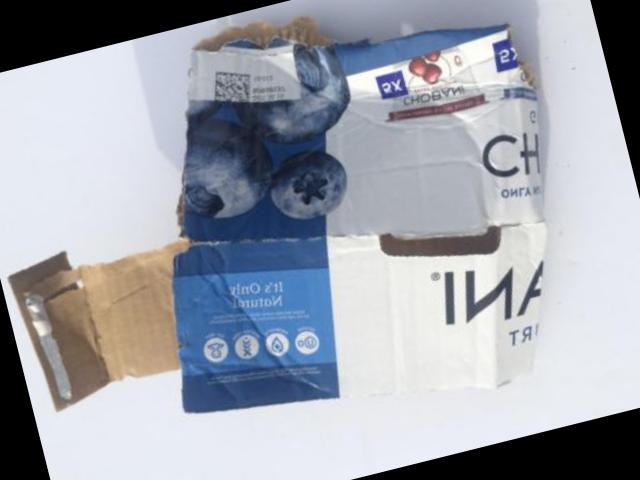cardboard paper: (8, 22, 545, 415)
